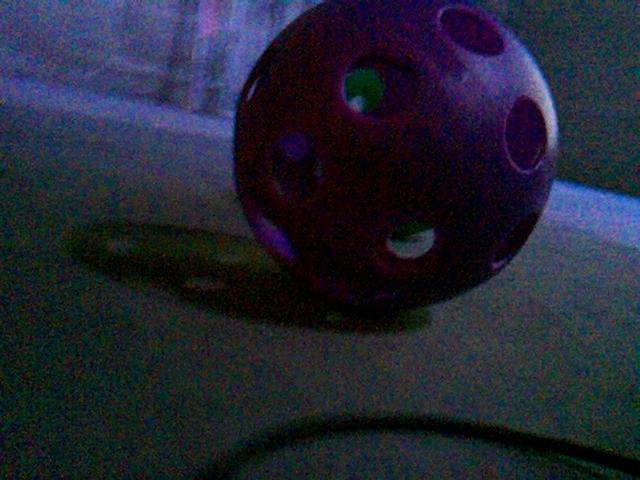Purple: (230, 3, 557, 311)
